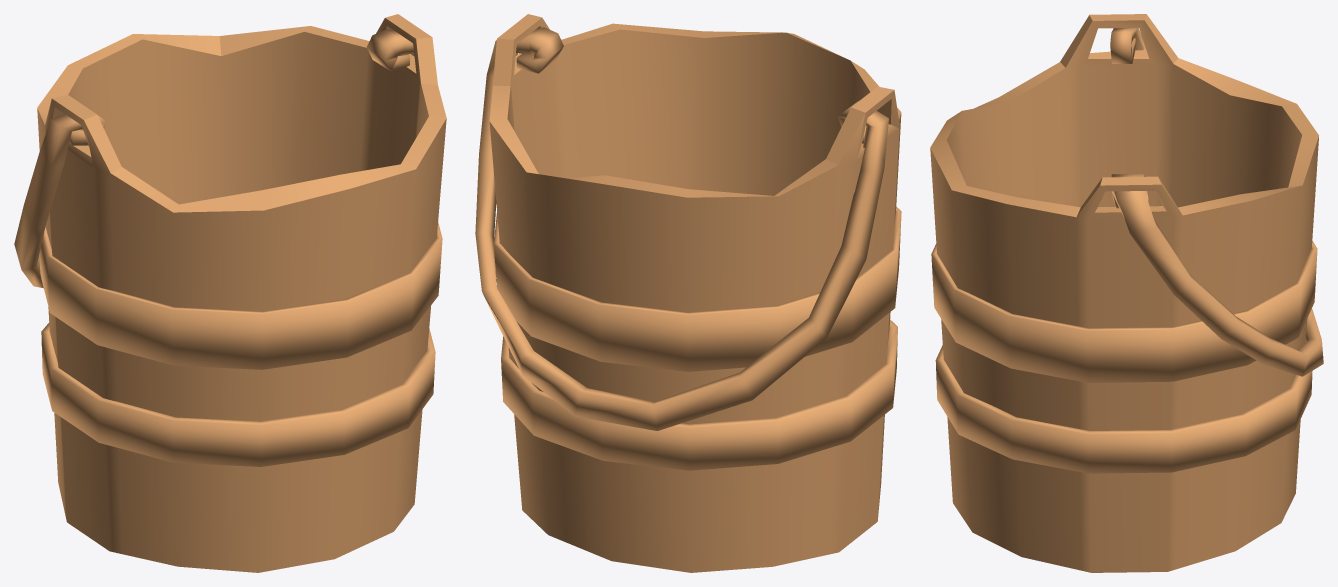
Rendered from Bucket_2_M.fbx.
3 renders of one model, left to right at view 1: azimuth 30°, elevation 25°; view 2: azimuth 150°, elevation 25°; view 3: azimuth 270°, elevation 25°, orthographic. The views are drawn at different scales.
Parts seen in each view (by area): view 1: Bucket_2_LOD0; view 2: Bucket_2_LOD0; view 3: Bucket_2_LOD0.
Part boxes in pixels (left/top/right/bottom): Bucket_2_LOD0: left=14, top=14, right=446, bottom=572; Bucket_2_LOD0: left=475, top=14, right=901, bottom=572; Bucket_2_LOD0: left=930, top=14, right=1323, bottom=572.
Size of what is drawn, in the model's own units: 36.62 by 40.19 by 34.97.
